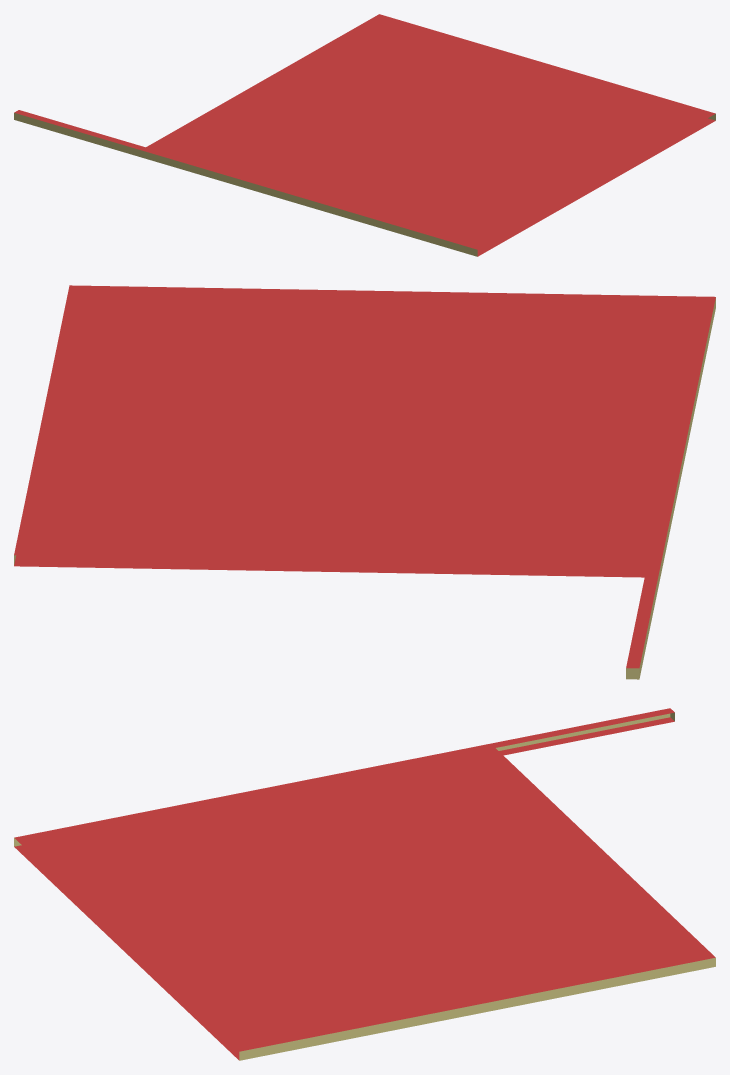
3 renders of one model, top to bottom at view 1: azimuth 30°, elevation 25°; view 2: azimuth 150°, elevation 25°; view 3: azimuth 270°, elevation 25°, orthographic. The views are drawn at different scales.
Bounding box in the file's own units: 7.84 × 6.97 × 0.211.
